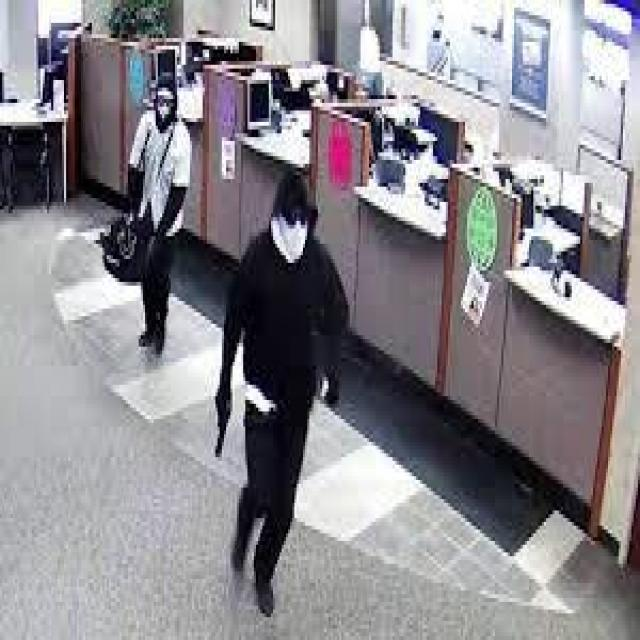weapon: (207, 381, 232, 465)
